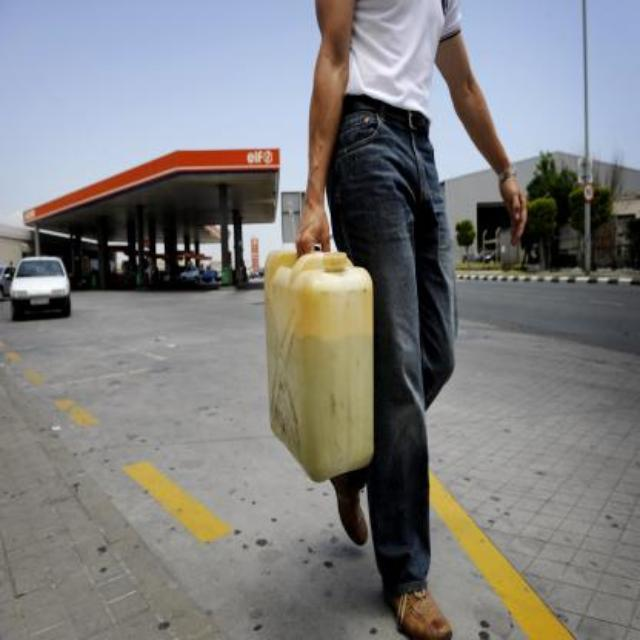chemical_plastic_gallon: (256, 240, 380, 480)
